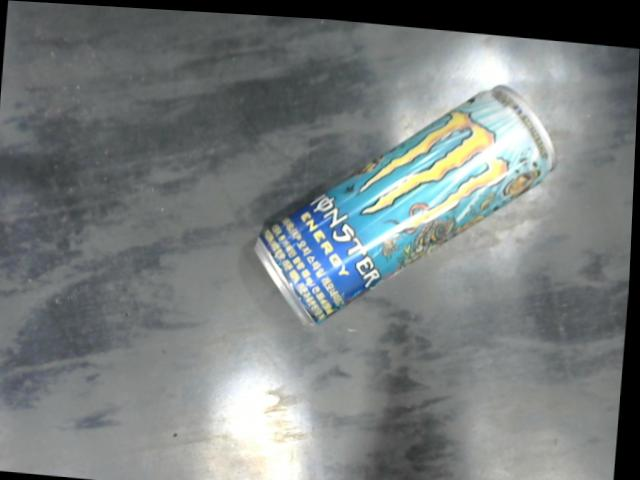can: (254, 77, 562, 323)
